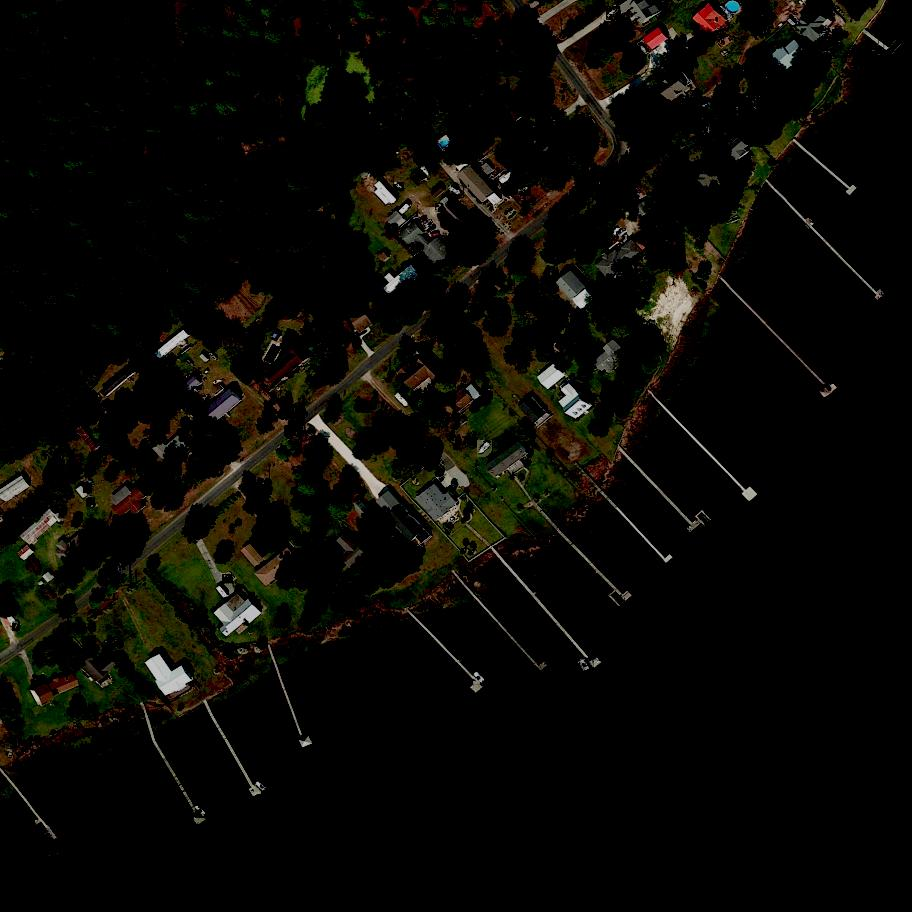ship: (477, 441, 494, 459), (607, 6, 621, 22), (449, 185, 465, 199), (473, 673, 488, 687), (196, 804, 209, 818), (255, 781, 268, 793), (581, 659, 592, 672), (222, 574, 234, 585), (520, 187, 532, 198)
small-vehicle: (191, 386, 204, 396), (87, 497, 97, 508), (200, 394, 210, 405), (617, 229, 628, 239), (394, 182, 405, 192), (12, 621, 21, 632), (702, 102, 713, 111), (84, 483, 92, 495), (770, 41, 782, 49), (701, 114, 710, 124), (427, 225, 437, 234), (422, 219, 432, 228), (393, 157, 401, 168), (666, 240, 677, 247), (214, 381, 225, 388), (635, 184, 644, 192), (436, 204, 443, 213)
